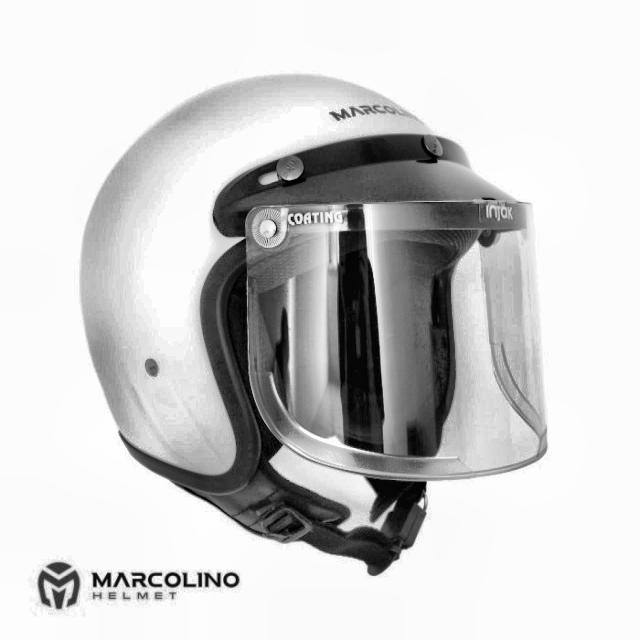Helmet: (75, 71, 546, 582)
